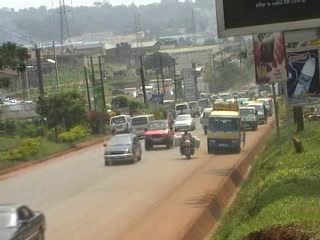Car: (1, 200, 51, 239), (100, 130, 144, 168), (142, 118, 180, 149), (168, 112, 196, 135)
Motorcycle: (175, 130, 201, 160)
